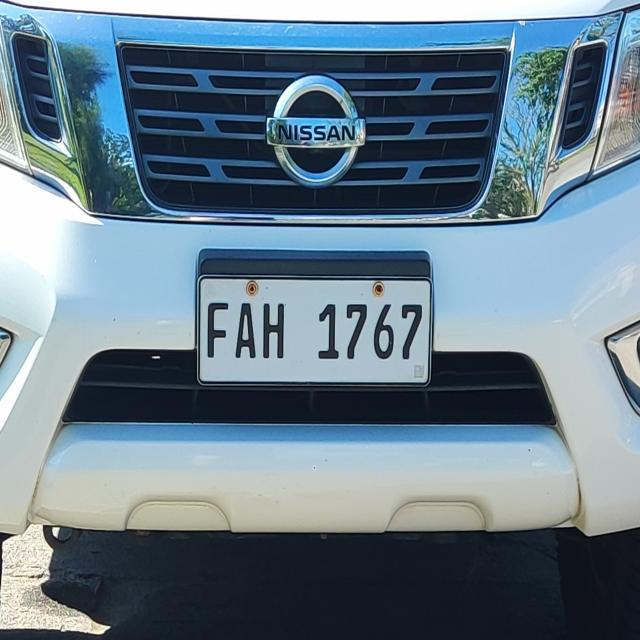LicensePlate: (188, 270, 441, 387)
